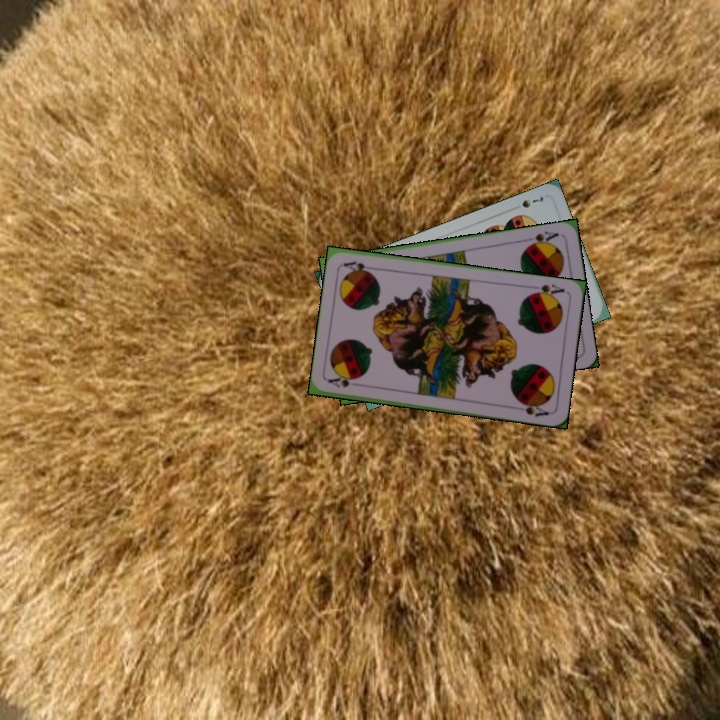S7: (518, 192, 546, 211)
SA: (522, 227, 561, 250), (527, 280, 567, 300), (325, 373, 359, 390)
